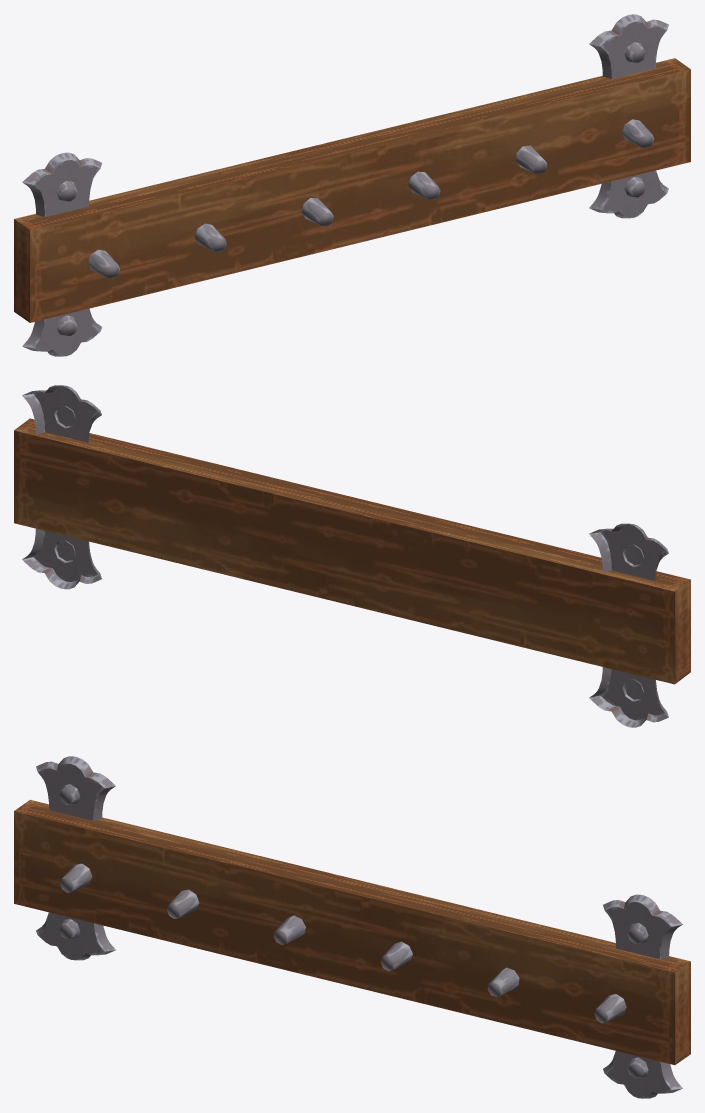
File: prop_peg_rack.glb
The picture shows the model from 3 angles, top to bottom: view 1: azimuth 30°, elevation 25°; view 2: azimuth 150°, elevation 25°; view 3: azimuth 330°, elevation 25°; orthographic projection.
Parts seen in each view (by area): view 1: Cube201, Cube201_1; view 2: Cube201, Cube201_1; view 3: Cube201, Cube201_1.
Boxes of the visible parts, box(x1,y1,x2,y2) form: Cube201: box(14, 58, 690, 322); Cube201_1: box(22, 14, 668, 356); Cube201: box(14, 418, 690, 684); Cube201_1: box(22, 385, 668, 727); Cube201: box(14, 799, 690, 1064); Cube201_1: box(36, 756, 682, 1098).
Size of the model in its own units: 1.18 by 0.3479 by 0.0957.
2 materials, 2 textured.
